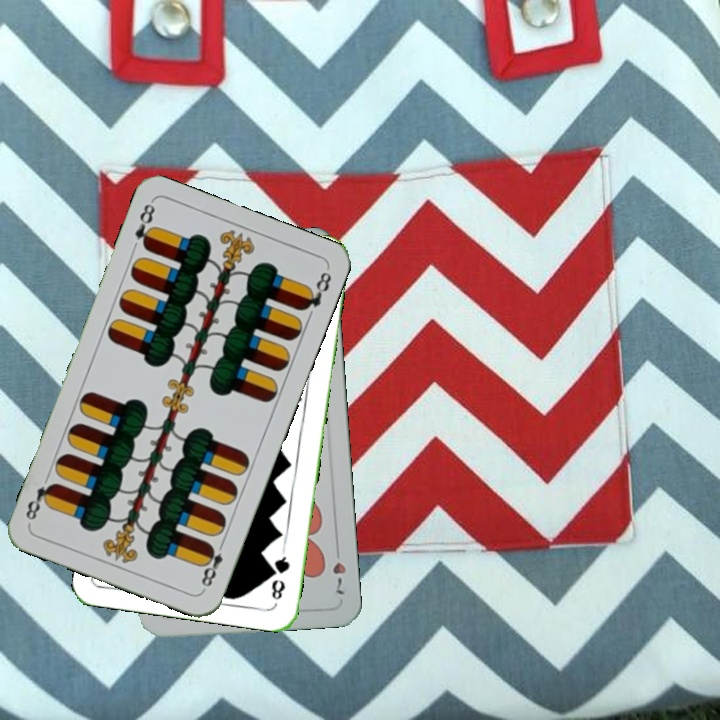E8: (197, 536, 228, 593), (130, 199, 158, 252)
G8: (267, 546, 292, 603)
H7: (328, 541, 349, 599)
